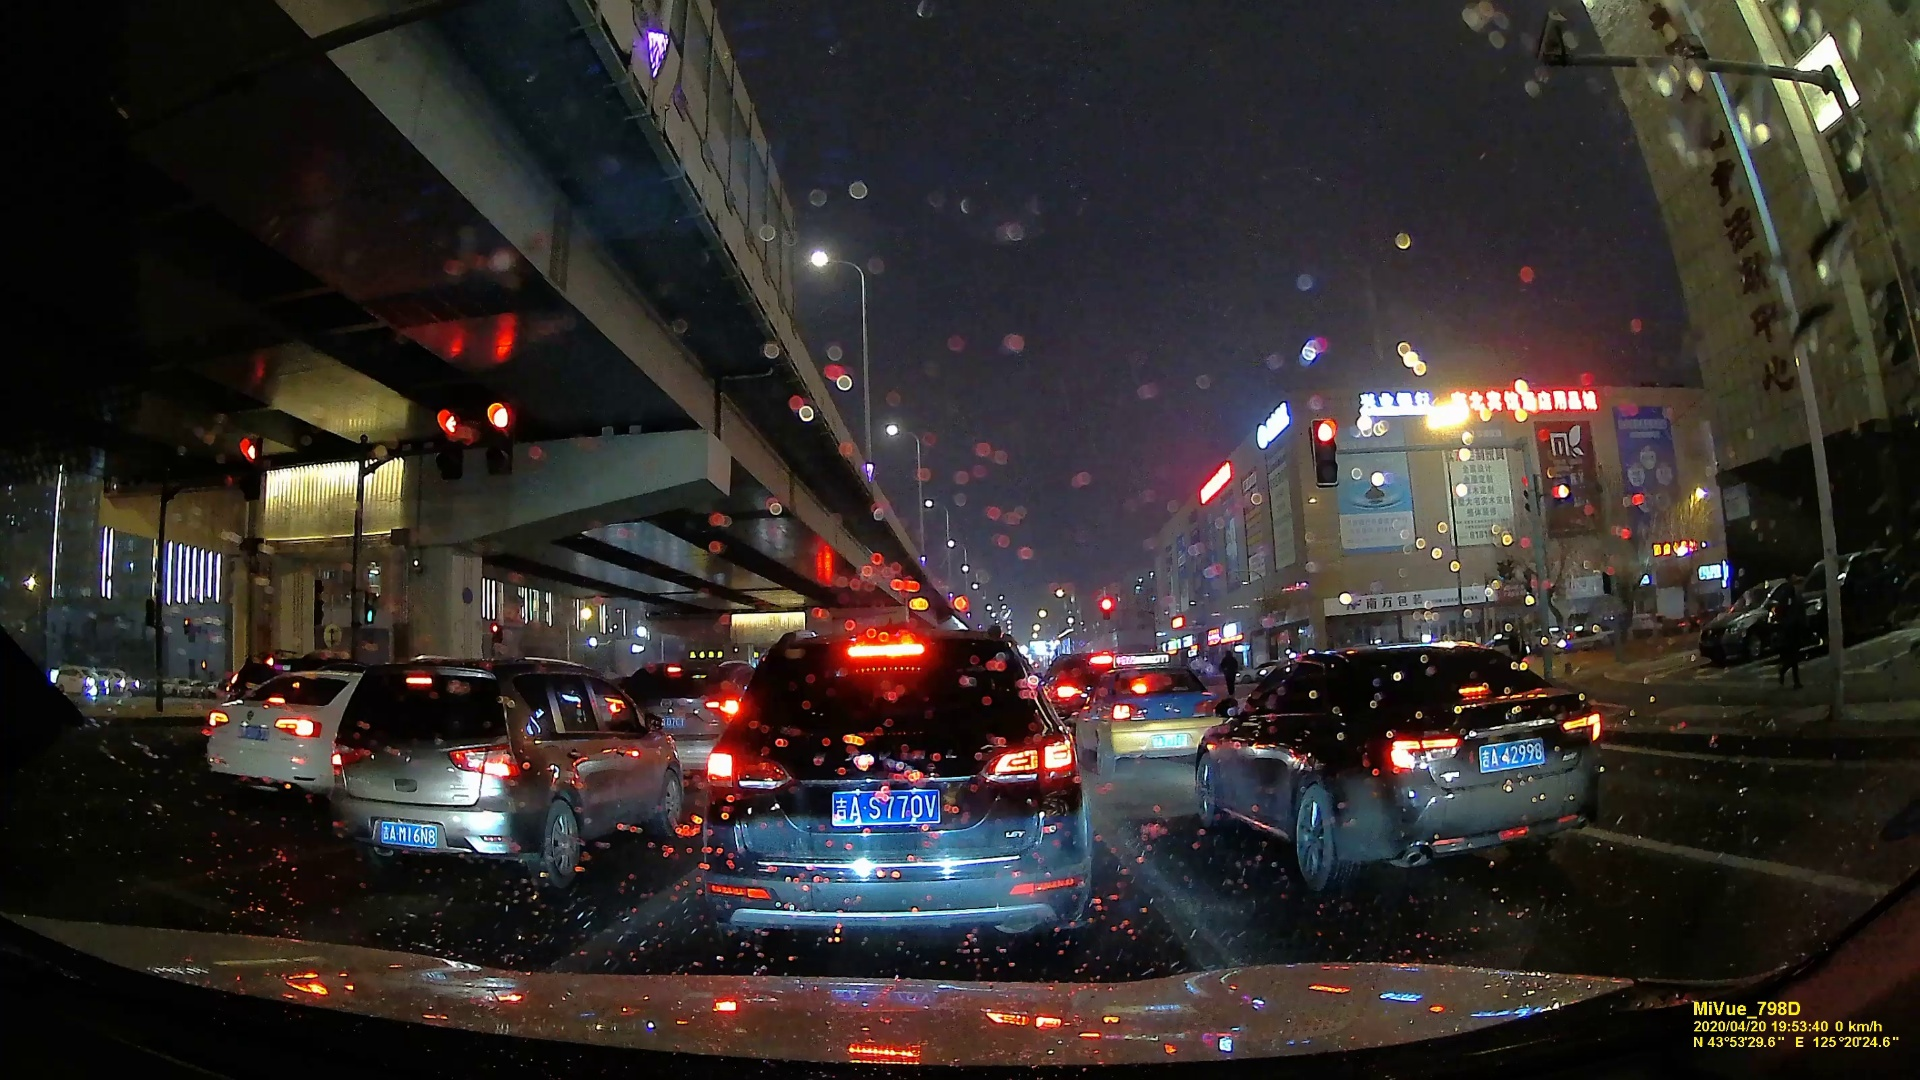person: (1776, 575, 1810, 685), (1218, 647, 1240, 695)
traffic_sign: (478, 402, 514, 474), (430, 407, 464, 476), (1310, 418, 1341, 484), (233, 431, 264, 496), (1101, 596, 1113, 620)
vehicle: (698, 630, 1084, 946), (1200, 635, 1607, 897), (340, 653, 690, 873), (203, 666, 357, 792), (1084, 661, 1215, 767)
